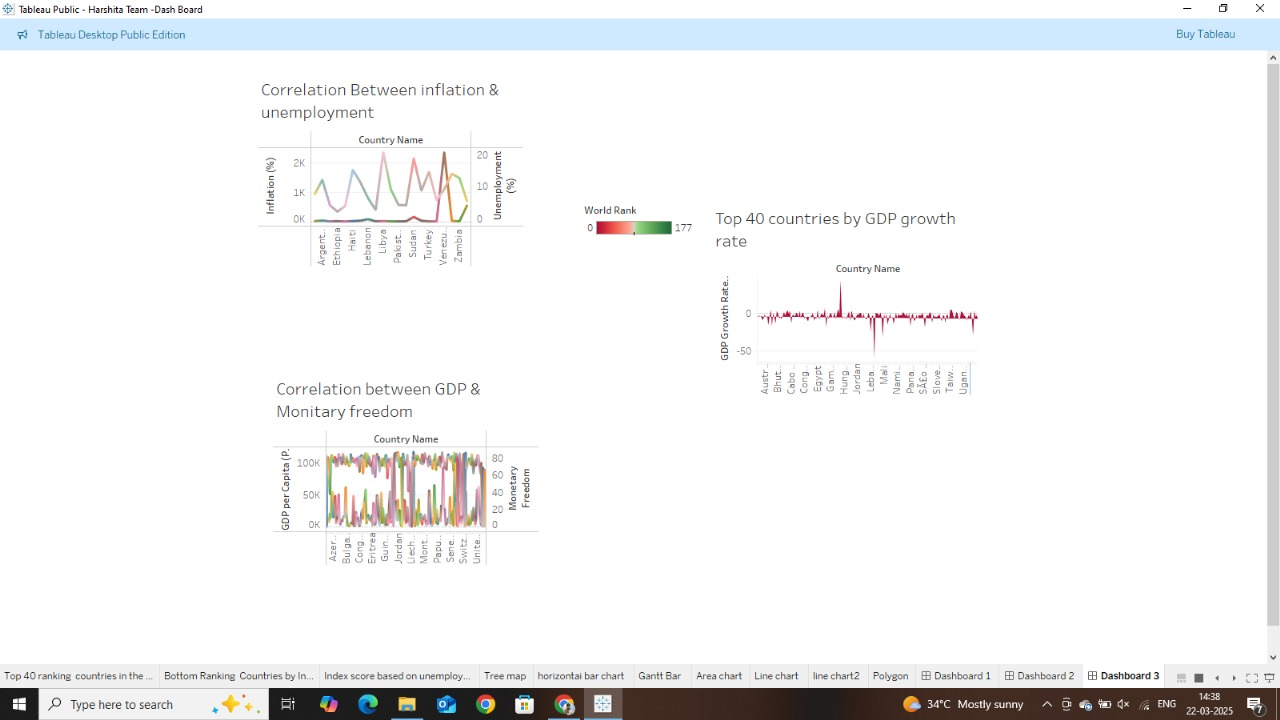

The page's visual inventory and layout, read from the dashboard file:
{"tool":"tableau","page":{"name":"Dashboard 3","canvas":[1000,800],"ordinal":2},"visuals":[{"type":"worksheet","title":"Line chart ","mark":"Line","rows":["Inflation (%)","Unemployment (%)"],"cols":["Country Name"],"box":[31,30,333,241]},{"type":"legend","title":"Polygon","param":"[federated.0pbhh900wvvba615hu5fw183r2ev].[sum:World Rank:qk]","box":[439,191,140,76]},{"type":"worksheet","title":"Polygon","mark":"Polygon","rows":["GDP Growth Rate (%)"],"cols":["Country Name"],"box":[599,191,333,241]},{"type":"worksheet","title":"line chart2","mark":"Line","rows":["GDP per Capita (PPP)","Monetary Freedom"],"cols":["Country Name"],"box":[50,404,333,241]},{"type":"dashboard-object","box":[802,625,164,52]}]}

Visuals, with their boxes on the page's 1000x800 design canvas (x1, y1, x2, y2). These are canvas units, not pixel positions in the 1280x720 screenshot, which may show the page scaled, cropped or inside an application window:
"Line chart " worksheet (Line marks): rect(31, 30, 364, 271)
"Polygon" legend: rect(439, 191, 579, 267)
"Polygon" worksheet (Polygon marks): rect(599, 191, 932, 432)
"line chart2" worksheet (Line marks): rect(50, 404, 383, 645)
dashboard-object: rect(802, 625, 966, 677)
